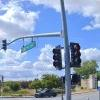traffic lights: (71, 42, 81, 67), (53, 48, 62, 67), (2, 38, 8, 52)
